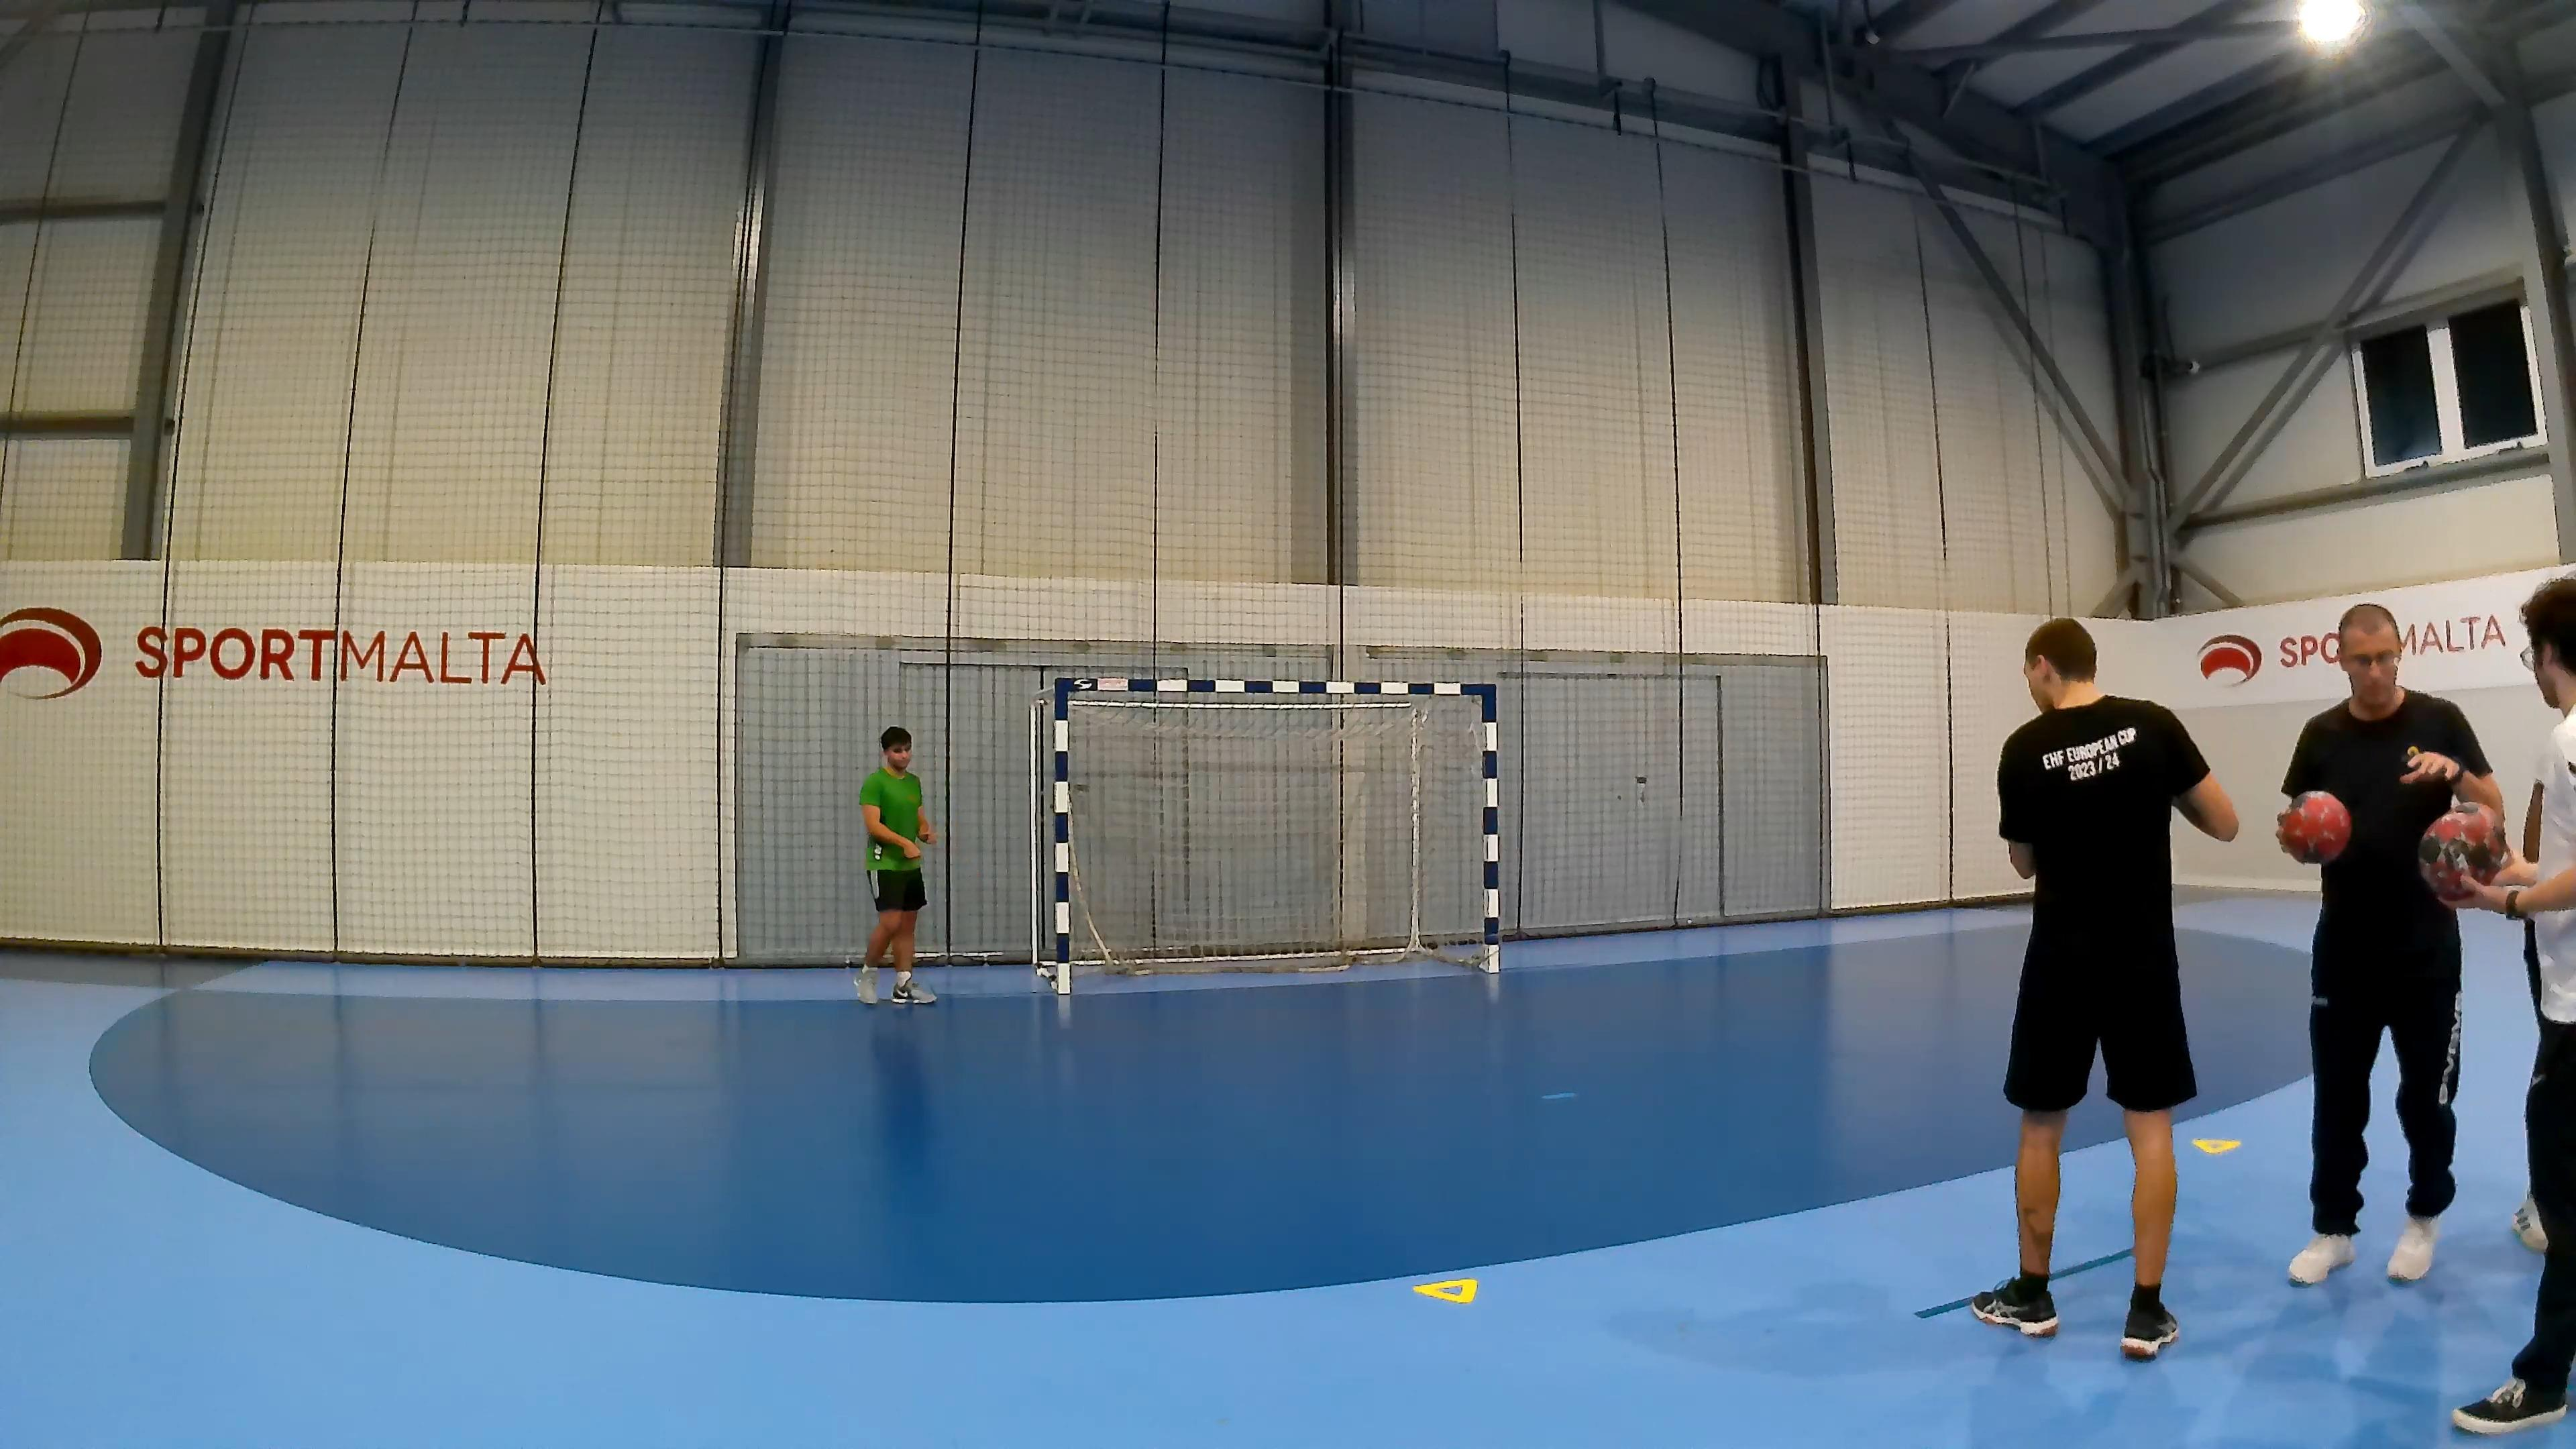handball: (2417, 801, 2505, 901), (2275, 789, 2351, 863)
